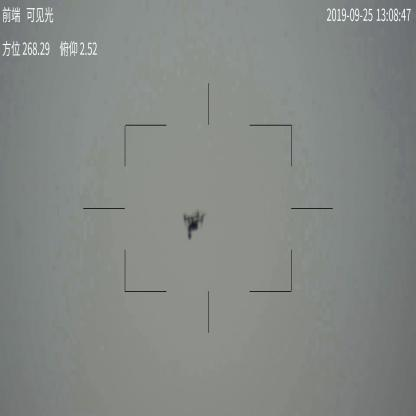uav: (182, 209, 207, 240)
